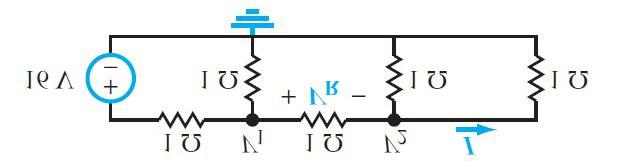resistor: (511, 36, 550, 104), (375, 40, 412, 103), (288, 104, 359, 132), (147, 100, 210, 130)
